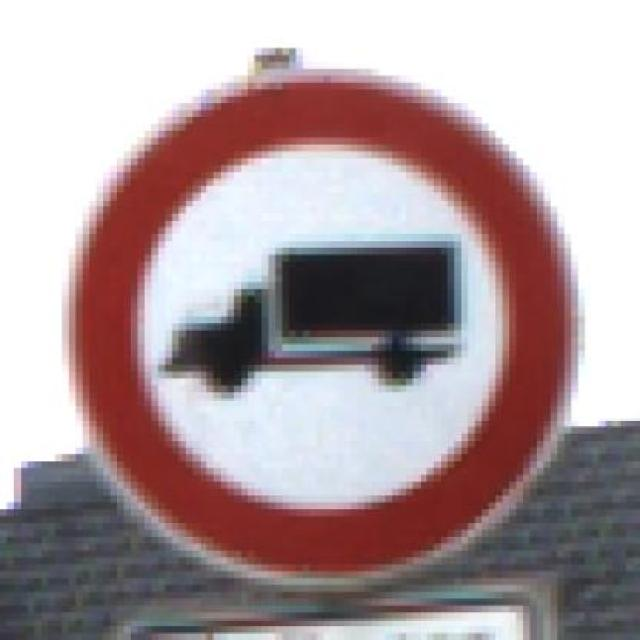Truck traffic is prohibited: (59, 40, 582, 612)
